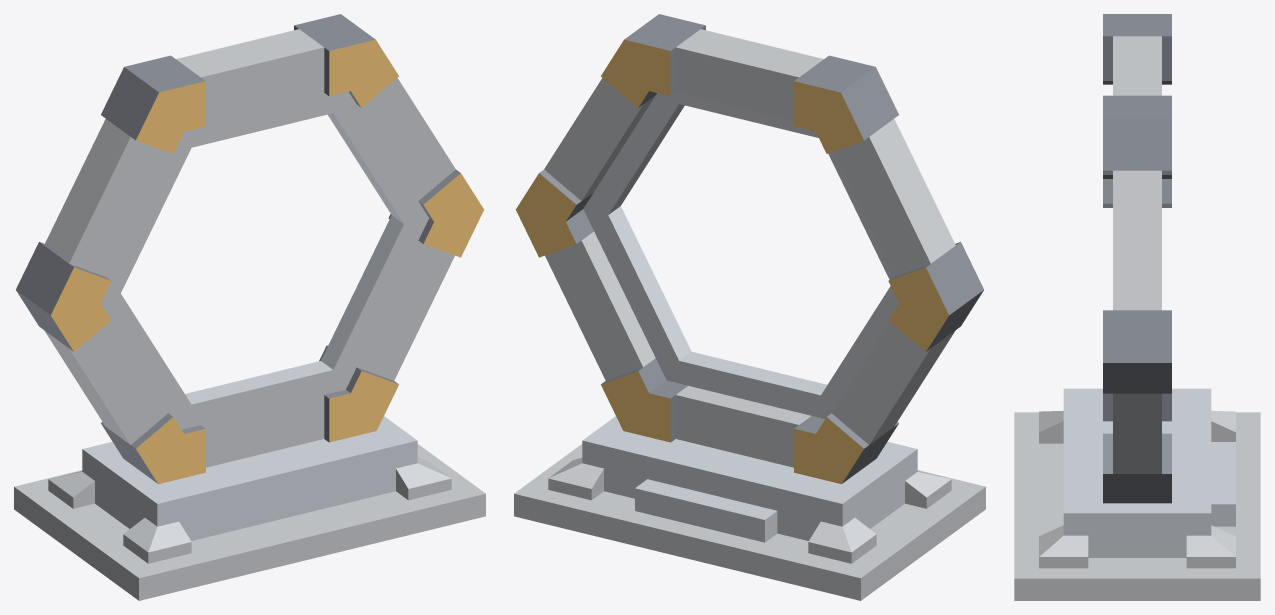
The model's file is gate_complex.glb.
3 views of the same model, side by side, from view 1: azimuth 30°, elevation 25°; view 2: azimuth 150°, elevation 25°; view 3: azimuth 270°, elevation 25° (orthographic).
Parts seen in each view (by area): view 1: gate_complex; view 2: gate_complex; view 3: gate_complex.
Boxes of the visible parts, left/top/right/bottom form: gate_complex: left=14, top=14, right=485, bottom=600; gate_complex: left=514, top=14, right=985, bottom=600; gate_complex: left=1014, top=14, right=1260, bottom=600.
Bounding box in the file's own units: 1 × 1.01 × 0.5.
